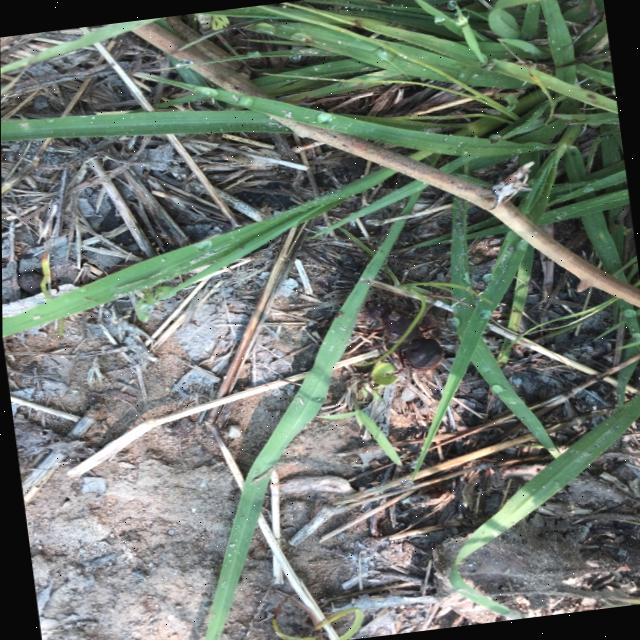Alive-Female-Dealate: (344, 291, 446, 380)
